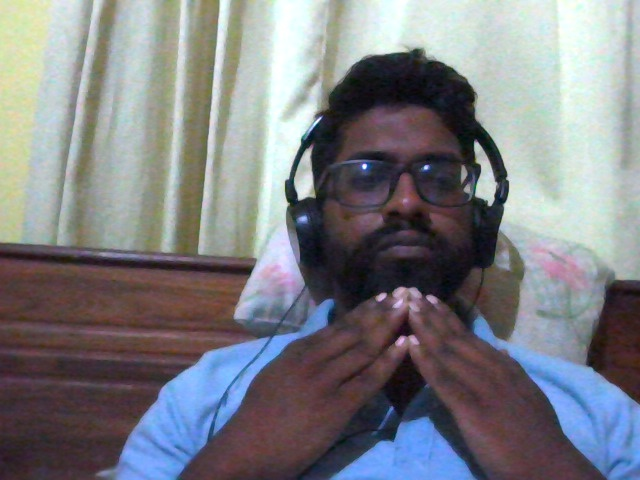Thank you: (109, 270, 640, 480)
